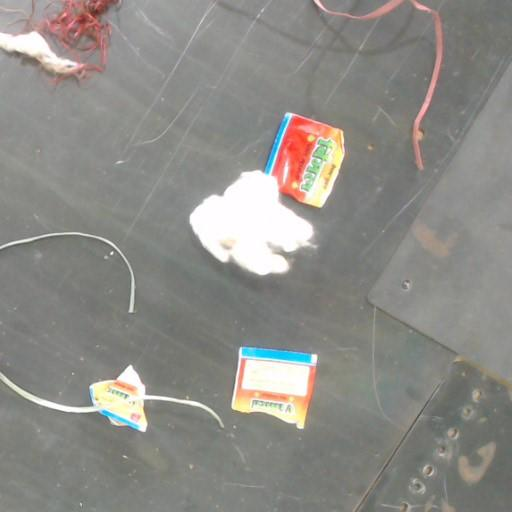conveyor belt: (0, 0, 511, 511)
cotton: (190, 170, 312, 275)
packet: (265, 114, 342, 206), (232, 348, 316, 428), (91, 378, 154, 417)
thread: (0, 232, 135, 312), (36, 0, 119, 74), (409, 0, 443, 169), (0, 372, 100, 413), (138, 393, 223, 425), (313, 0, 407, 20)
